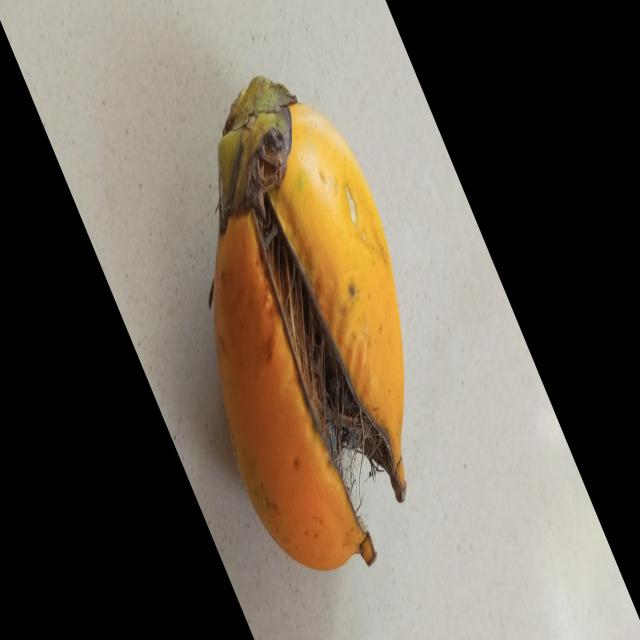damaged: (211, 77, 407, 574)
